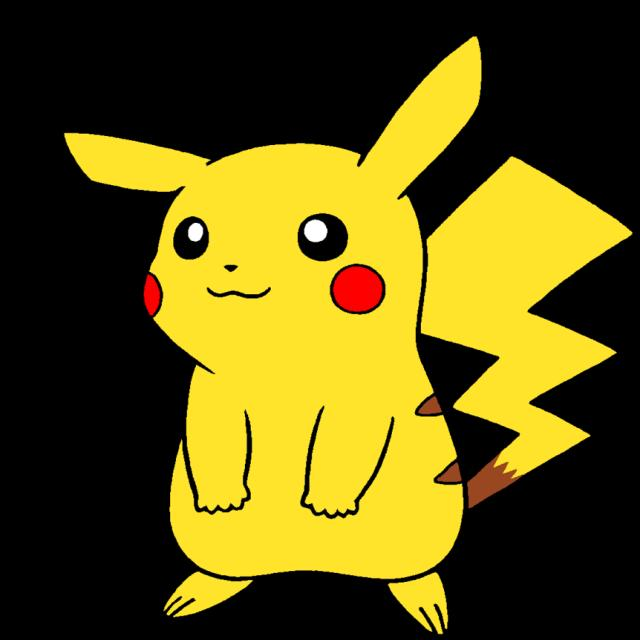Pikachu: (154, 125, 466, 599)
